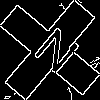N: (25, 25, 82, 83)
